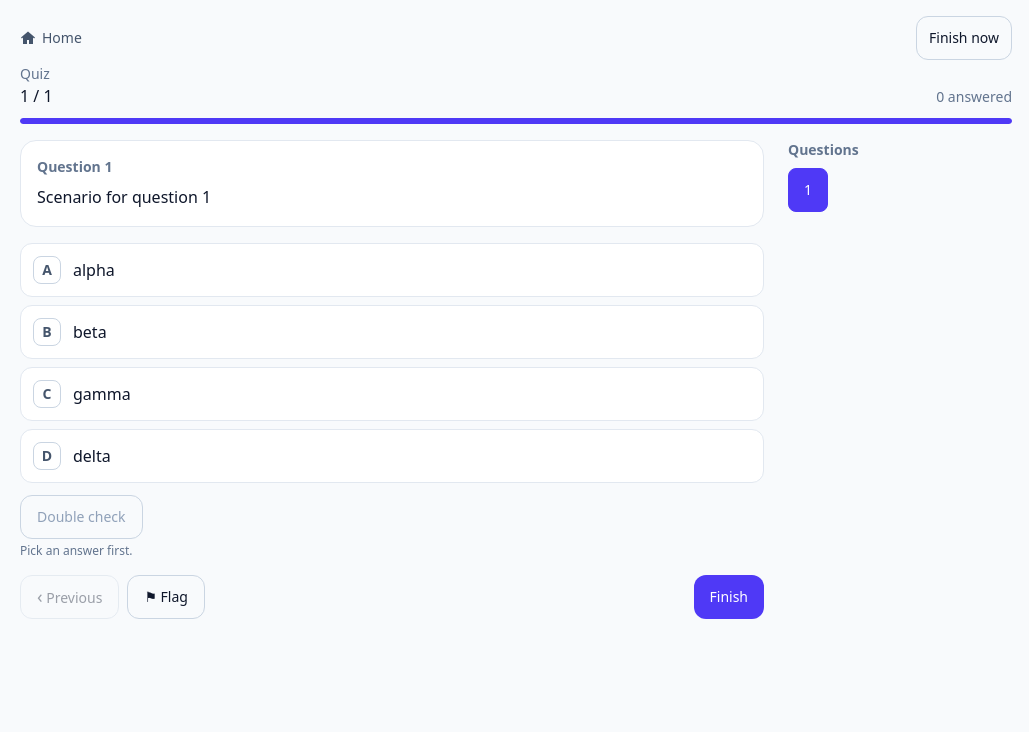
Double check › shows a wrong answer and OpenAI disagreeing with the key
The width and height of the screenshot is (1029, 732).
What coordinates should you click on to do the following:
click the radio button with aria-label "Option B"
I would click on:
 (90, 332)
Its box is 20,305 -> 764,359.
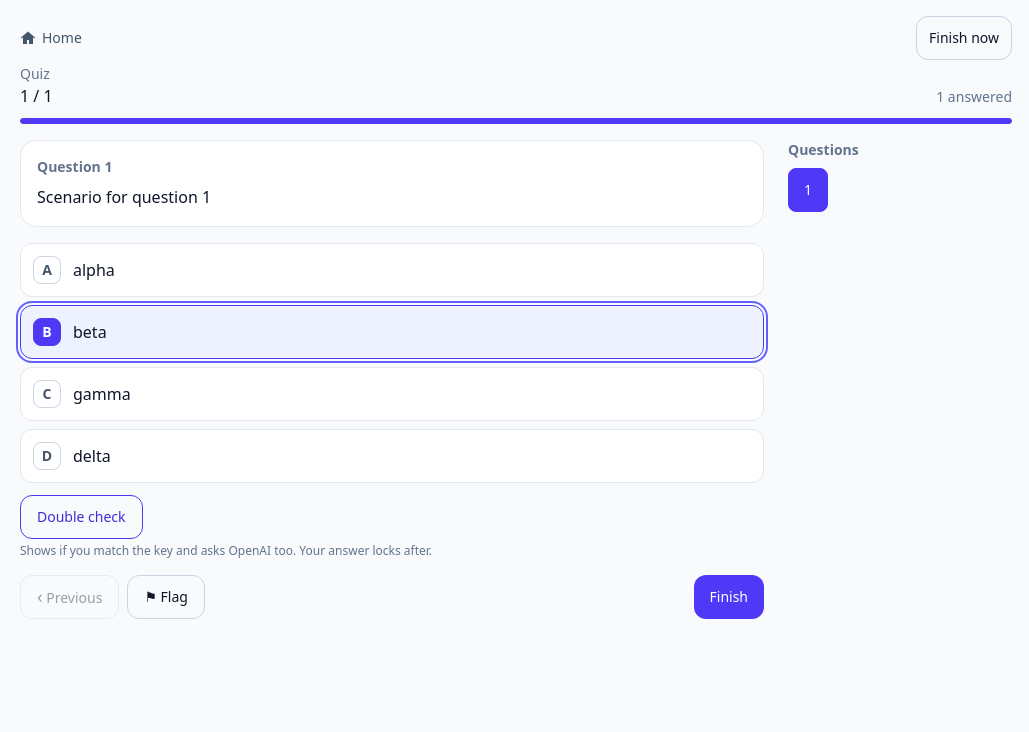
What coordinates should you click on to do the following:
click the button "Double check"
I would click on:
 (81, 517)
Its box is 20,495 -> 143,539.
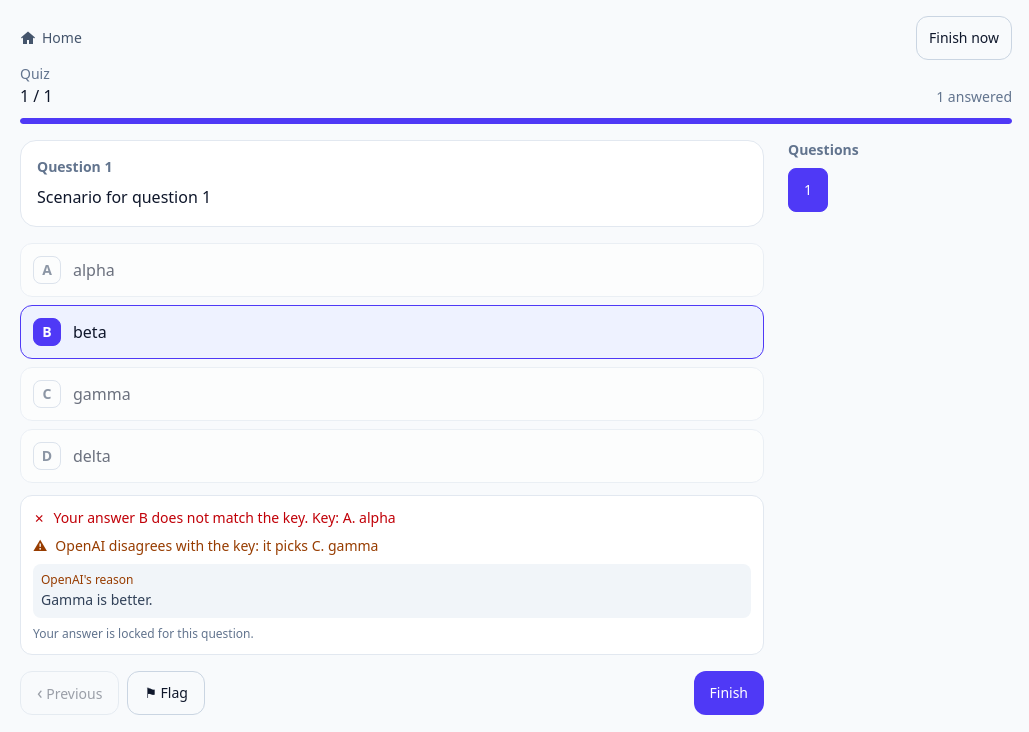
Expected: the text "Your answer B does not match the key. Key: A. alpha" is shown, 53,508 -> 396,528
Expected: the text "OpenAI disagrees with the key: it picks C. gamma" is shown, 55,536 -> 378,556
